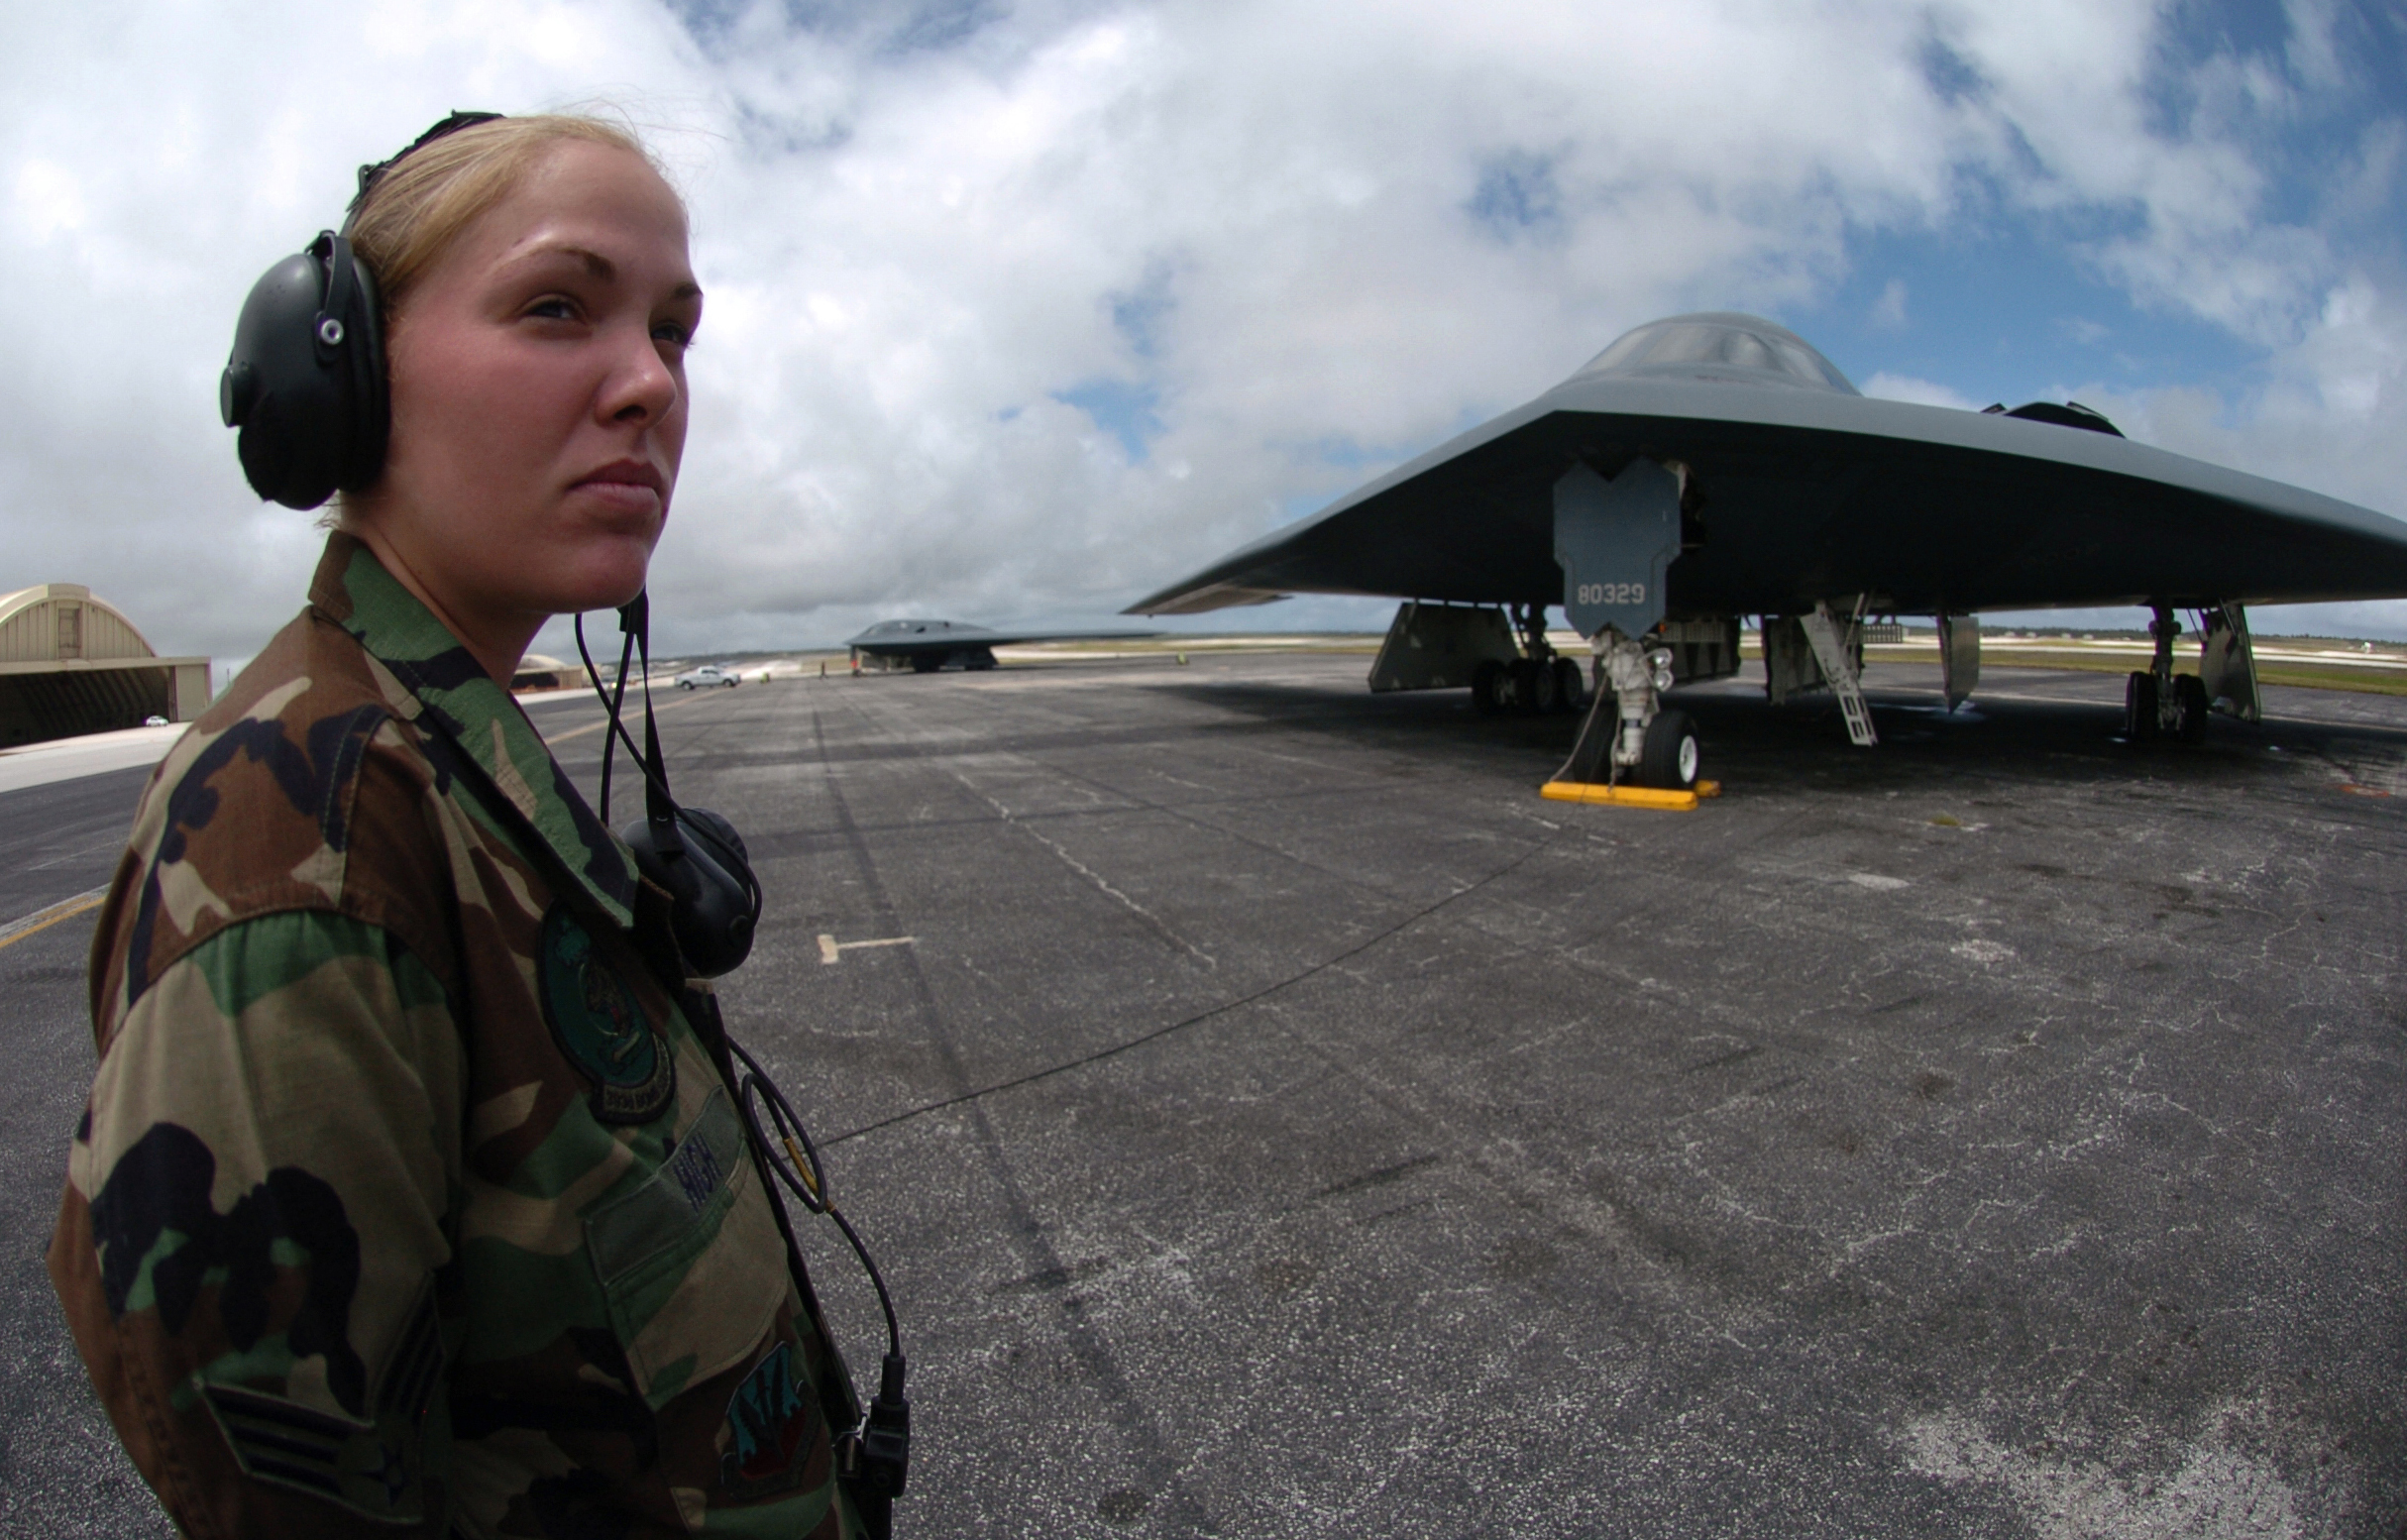B2: (1114, 310, 2407, 791), (842, 616, 1170, 677)
